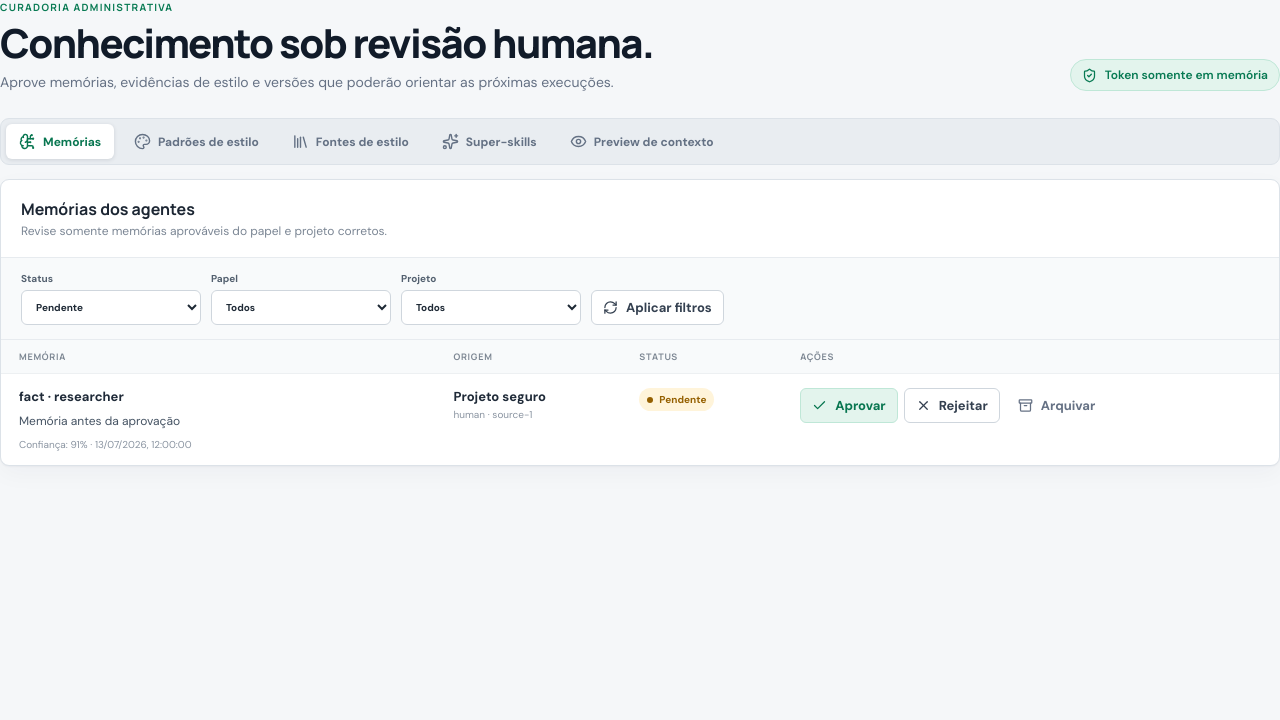
Test: AdminCuration › previews the actual context without rendering unrelated secret metadata
This screenshot has width=1280, height=720.
Check: the text "Memória antes da aprovação" is shown, box [19,413,180,429]
Click the tab "Preview de contexto": (642, 142) [557,124,727,159]
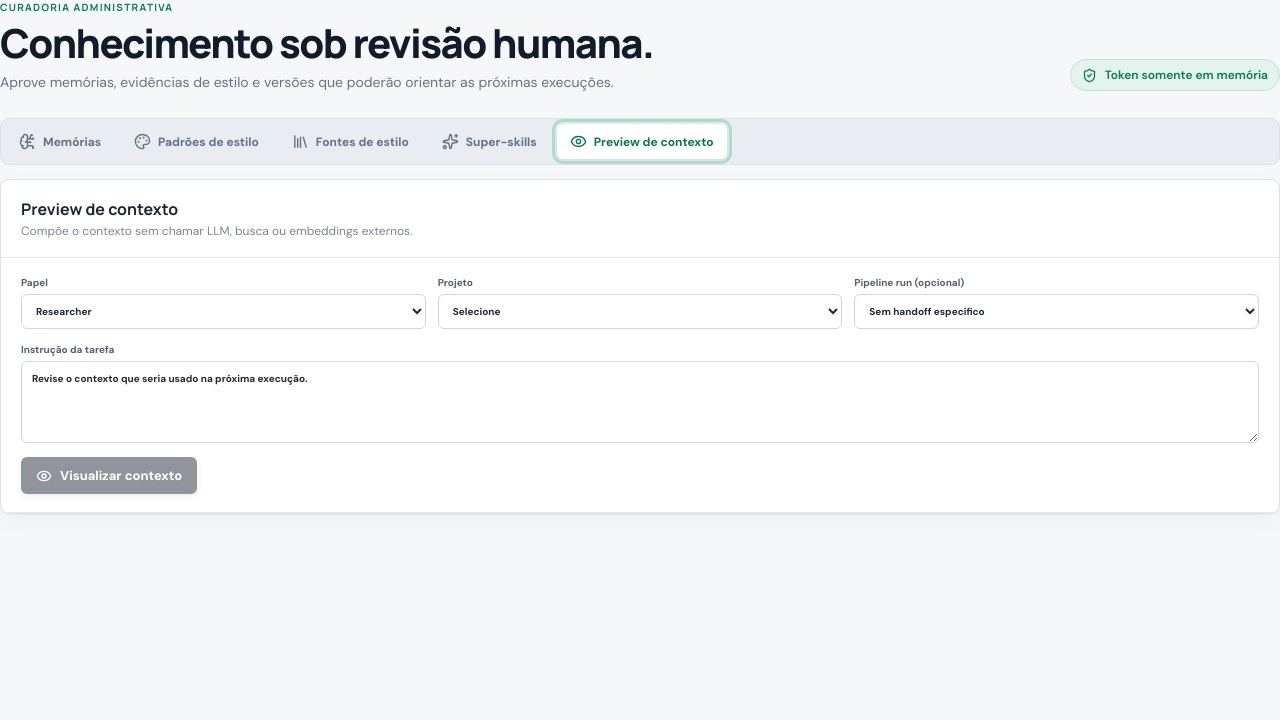
Select "Projeto seguro" in the dropdown labelled "Projeto": (640, 312) [438,294,842,329]
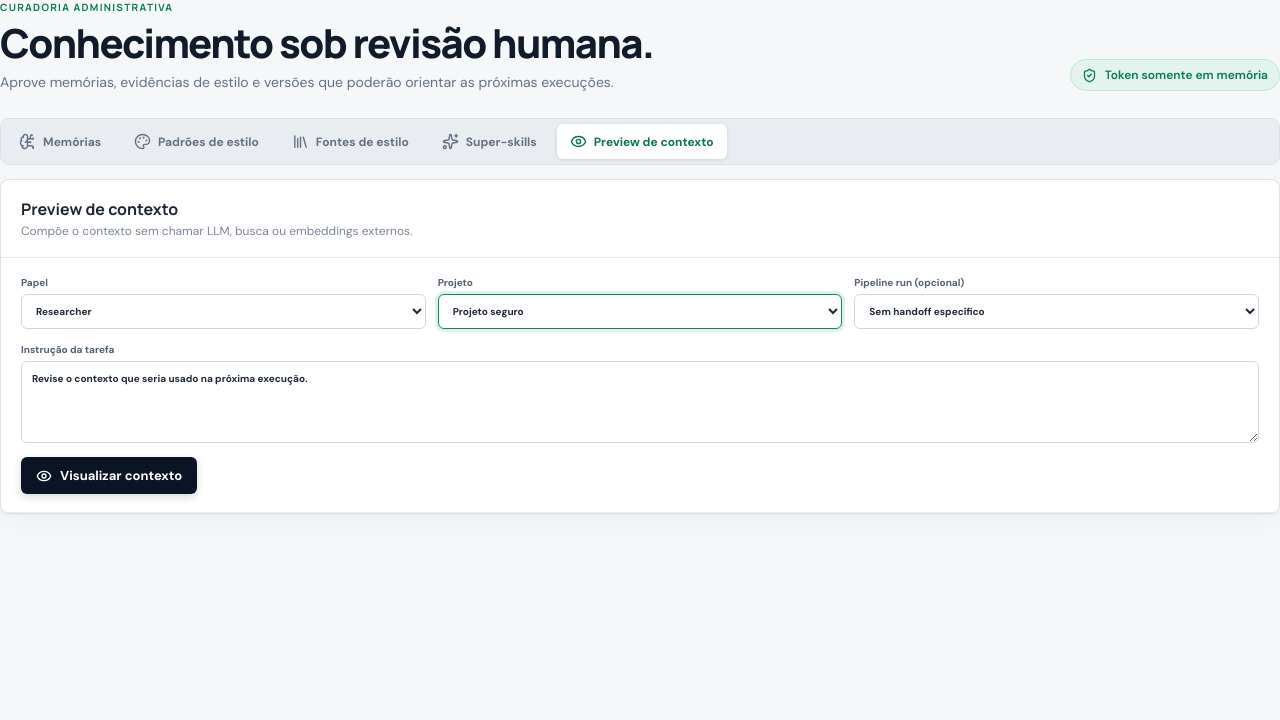
Select "researcher · running · run-1" in the dropdown labelled "Pipeline run (opcional)": (1057, 312) [854,294,1259,329]
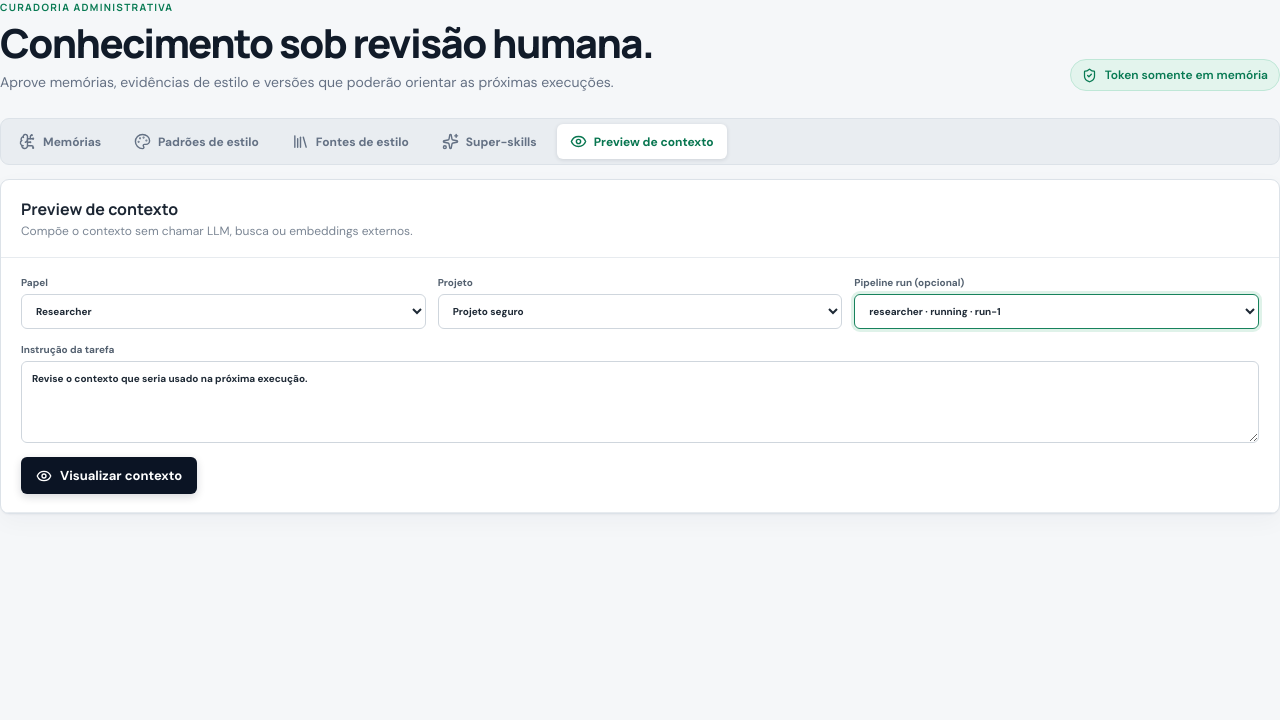
Click the button "Visualizar contexto": (109, 476) [21,457,197,494]
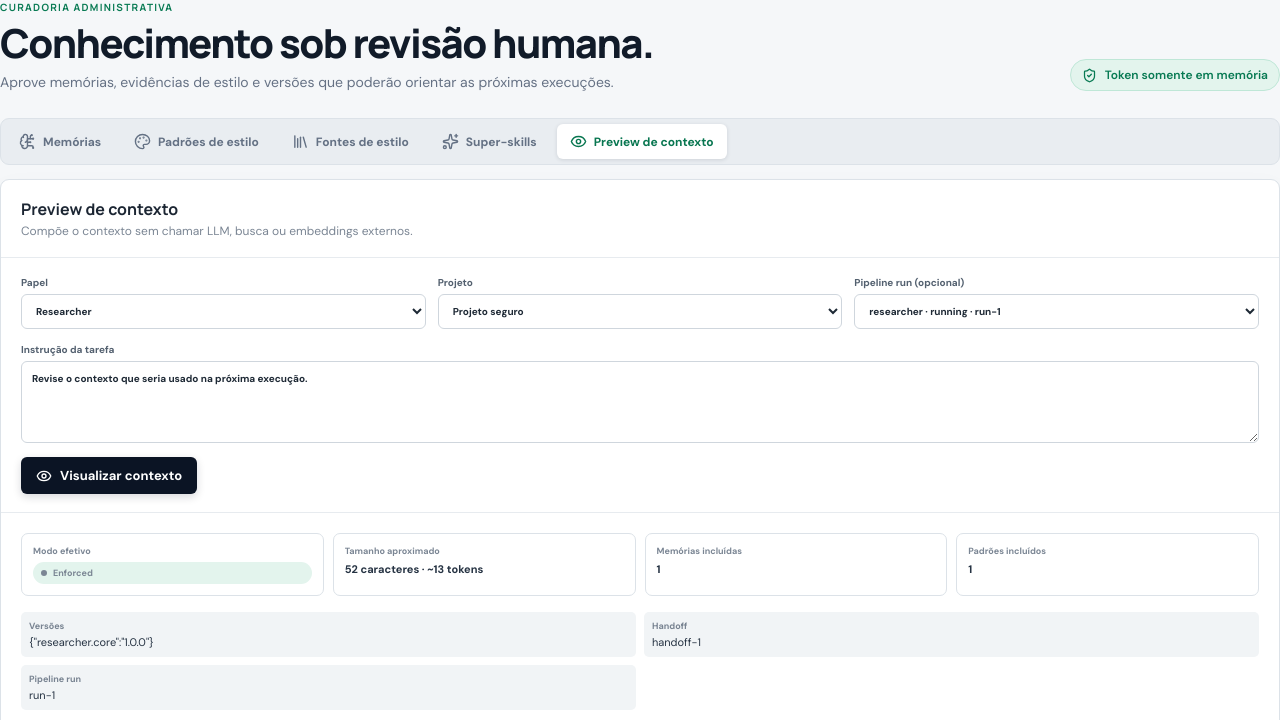
Check: the text "Enforced" is shown, box [33,562,312,584]
